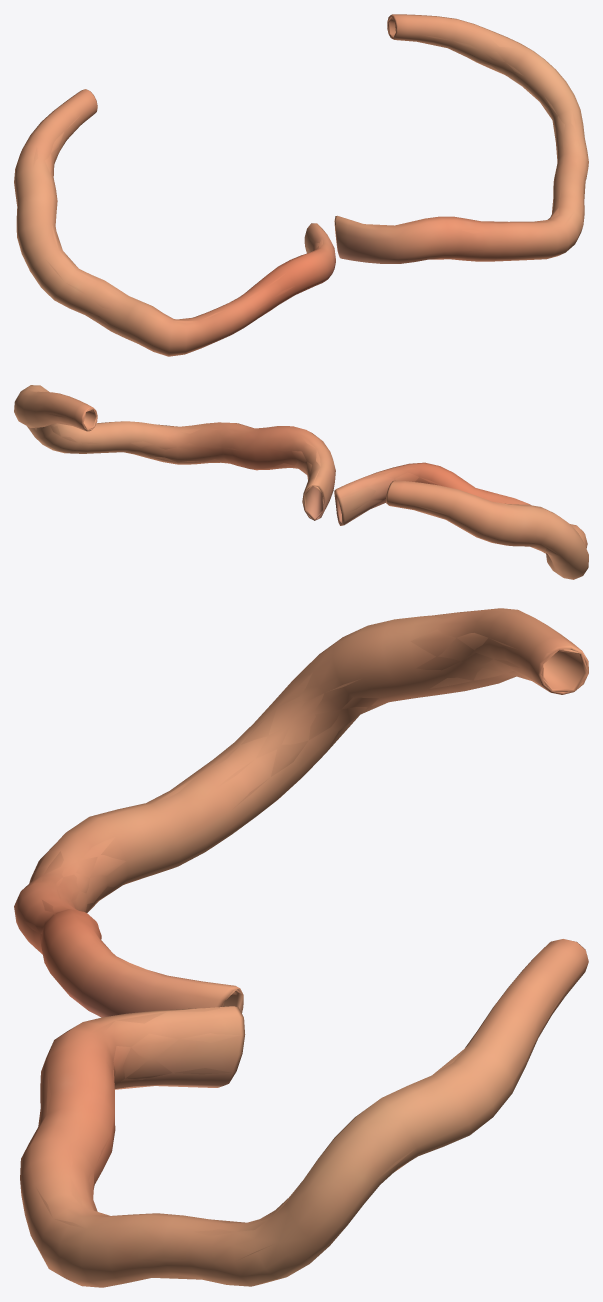
Rendered from Oviducts.fbx.
3 views of the same model, one above another, from view 1: azimuth 30°, elevation 25°; view 2: azimuth 150°, elevation 25°; view 3: azimuth 270°, elevation 25° (orthographic). The views are drawn at different scales.
Parts seen in each view (by area): view 1: Oviducts, Oviducts low; view 2: Oviducts, Oviducts low; view 3: Oviducts, Oviducts low.
Part boxes in pixels (bbox=[...]): Oviducts: bbox=[14, 14, 588, 356]; Oviducts low: bbox=[33, 15, 587, 325]; Oviducts: bbox=[14, 385, 588, 579]; Oviducts low: bbox=[34, 390, 559, 570]; Oviducts: bbox=[14, 608, 588, 1287]; Oviducts low: bbox=[24, 613, 588, 1279].
Bounding box in the file's own units: 8.31 × 2.29 × 3.8.
